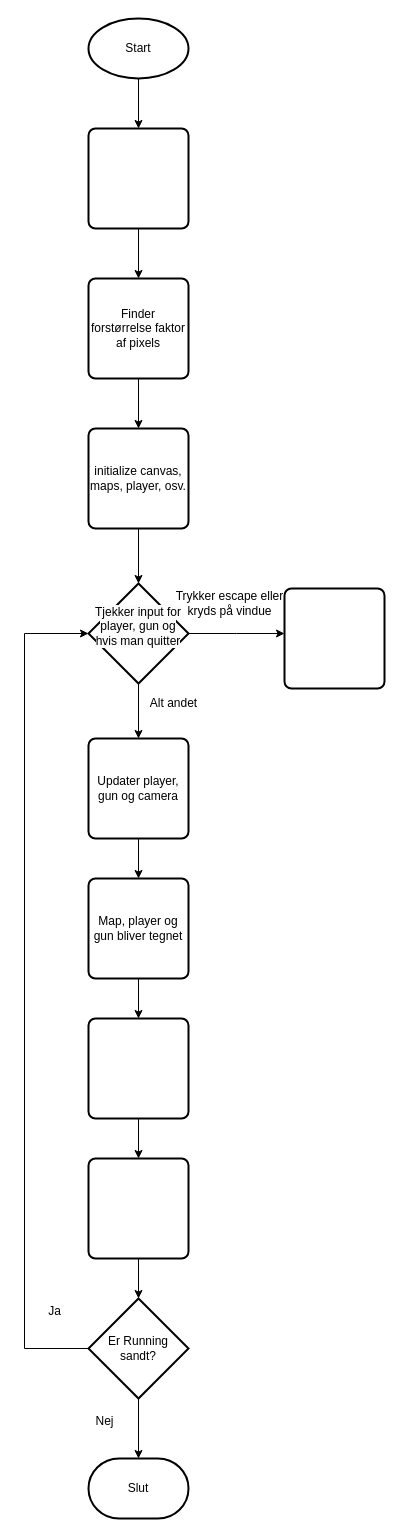
The diagram is 403 pixels wide and 1536 high, and some of its shapes have lost their labels. Each missing label, with the centre of its shape:
"Canvas / surface bliver kun tegnet på området hvor skærmen er" belongs at (x=138, y=1208).
"initialize højden og bredden af vindue" belongs at (x=138, y=178).
"Område hvor skærm skal være bliver fundet" belongs at (x=138, y=1068).
"Running bliver falsk" belongs at (x=334, y=638).
